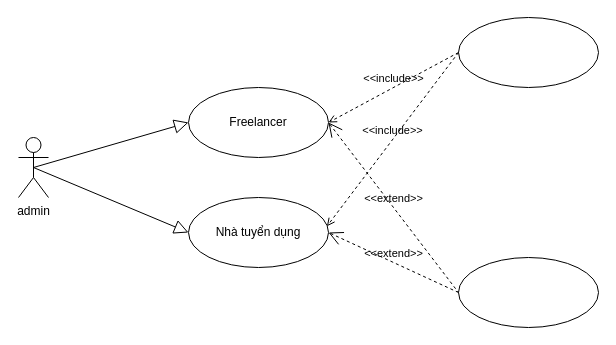
This 616x345 diagram has some shape labels left out. Here are the shapes that lost their labels. From the top down, the centre of each, then its label:
(528,52): Xem chi tiết thông tin người dùng
(528,292): Tìm kiếm
